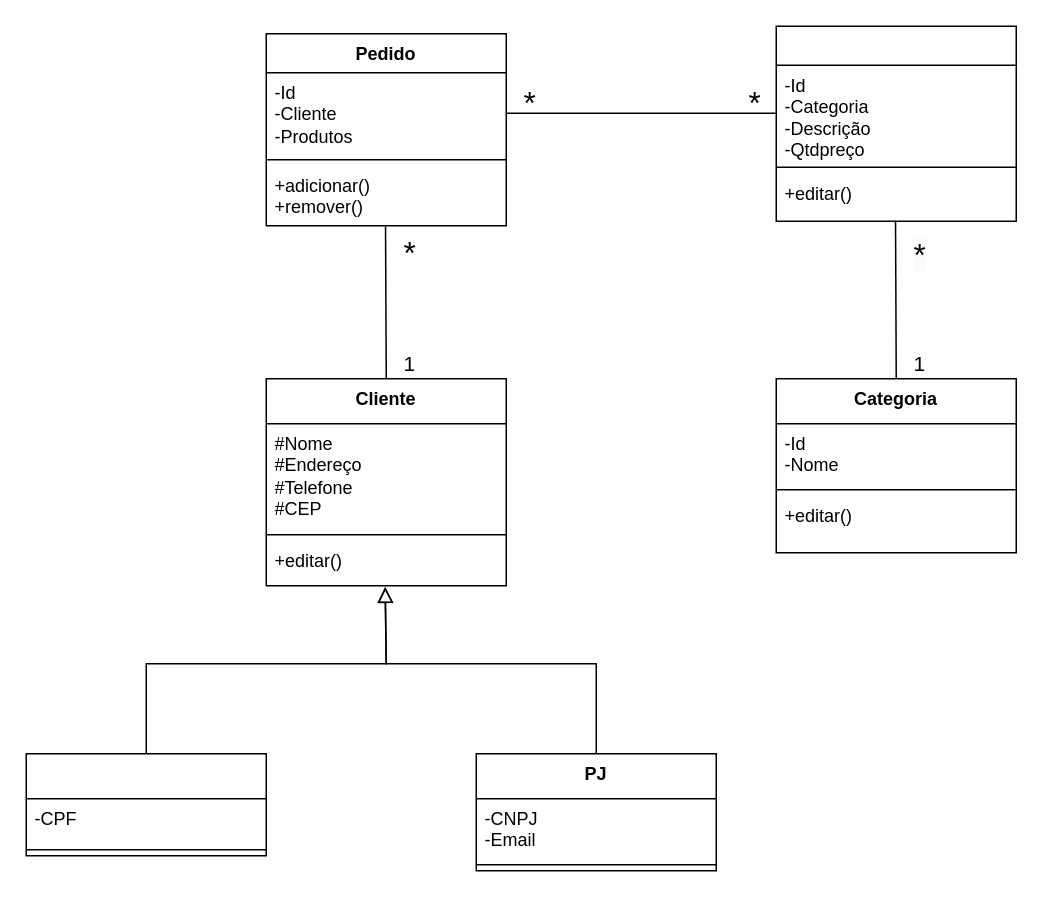
Image size: 1043x897. Some labels were removed from this diagram. The box of each missing label's shape, as (x1, y1, x2, y2) in pixels:
PF: (25, 752, 266, 856)
Produto: (775, 25, 1016, 221)
